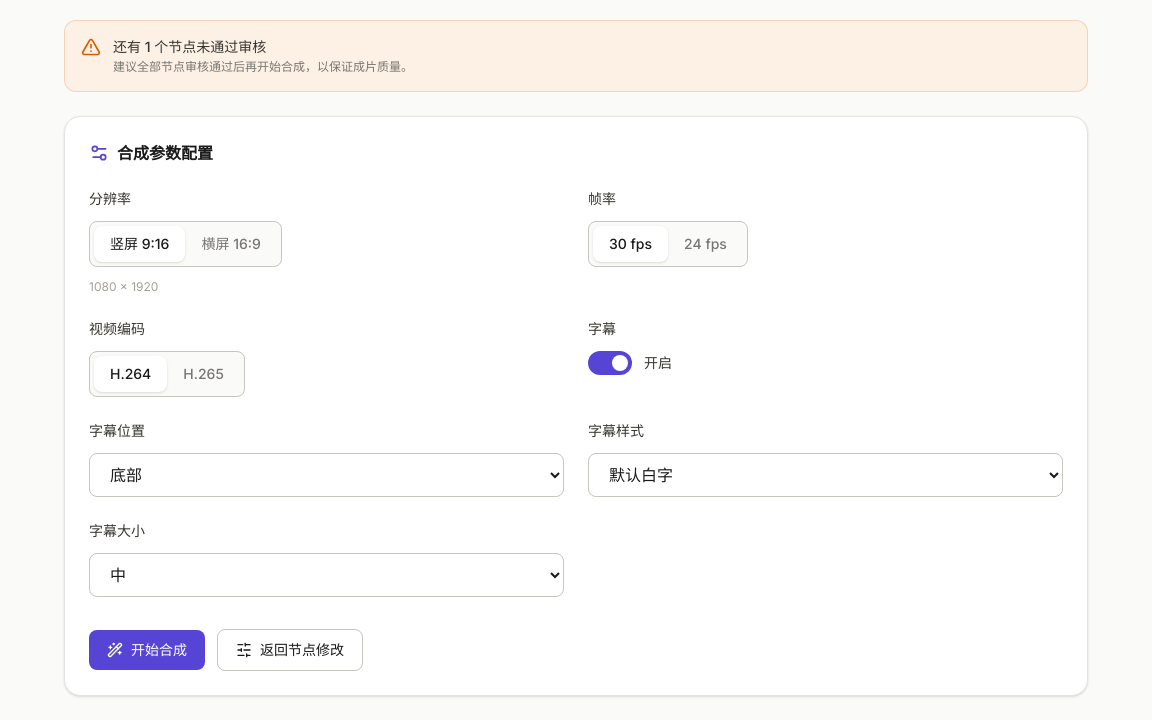
CompositePage › should show failure state and retry button
This screenshot has width=1152, height=720.
(page scrolled)
Click the button "开始合成" at (147, 650), box [89, 630, 205, 670]
(page scrolled)
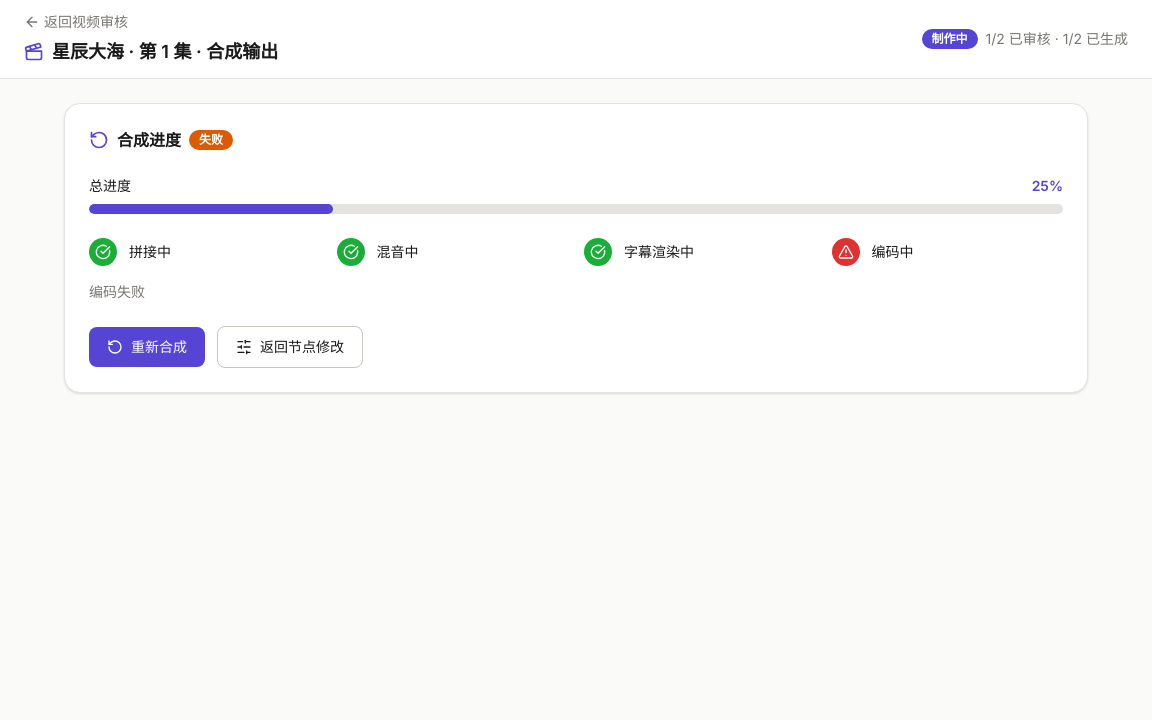
Expected: the button "重新合成" is shown, [89, 327, 205, 367]
